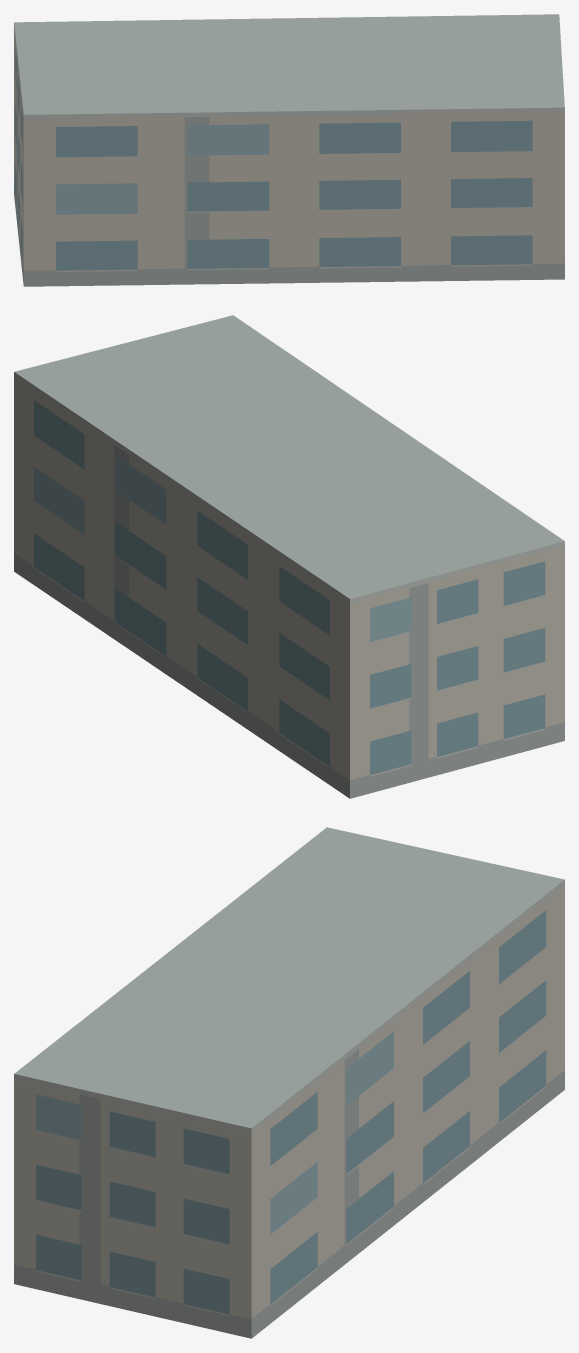
File: survey-upis-32743804.glb
3 renders of one model, top to bottom at view 1: azimuth 30°, elevation 25°; view 2: azimuth 150°, elevation 25°; view 3: azimuth 270°, elevation 25°, orthographic. The views are drawn at different scales.
Visible parts, largest first — view 1: survey-upis-32743804.tmp; view 2: survey-upis-32743804.tmp; view 3: survey-upis-32743804.tmp.
Part boxes in pixels (left/top/right/bottom): survey-upis-32743804.tmp: left=14, top=14, right=564, bottom=286; survey-upis-32743804.tmp: left=14, top=315, right=564, bottom=798; survey-upis-32743804.tmp: left=14, top=827, right=564, bottom=1338.
Size of the model in its own units: 28.13 by 9.15 by 21.74.
